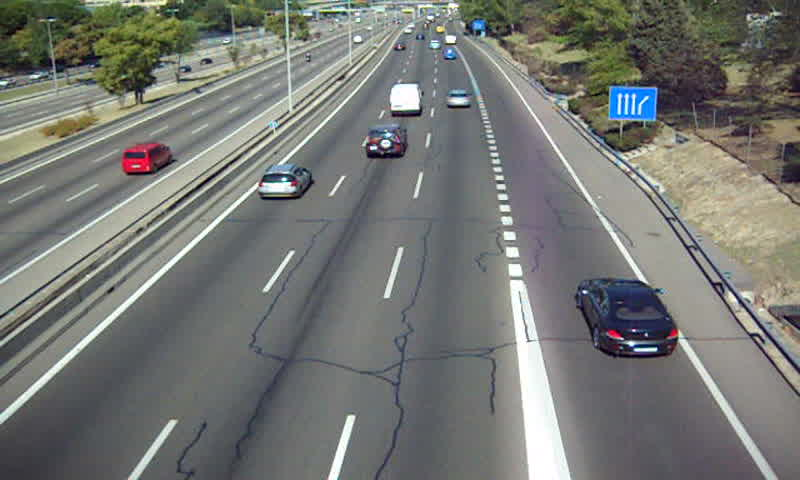car: (577, 278, 678, 355), (258, 163, 313, 199), (365, 124, 408, 160), (445, 90, 472, 108)
van: (389, 84, 424, 117)
